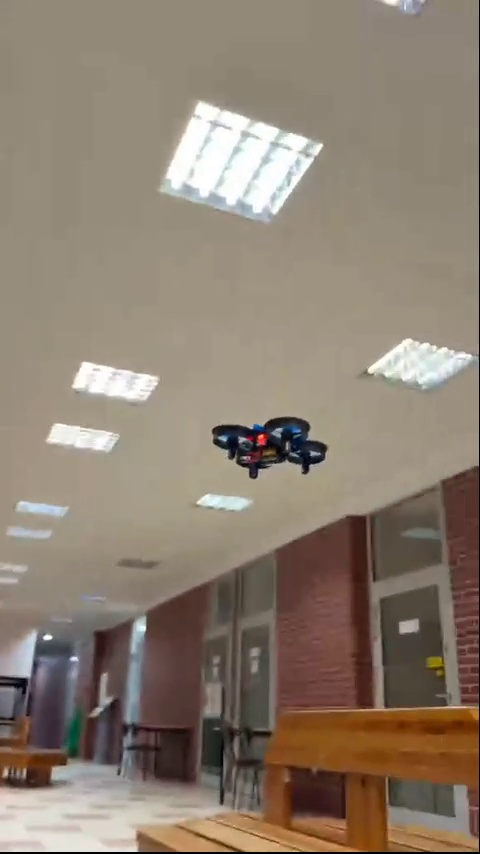drone: (211, 404, 324, 477)
